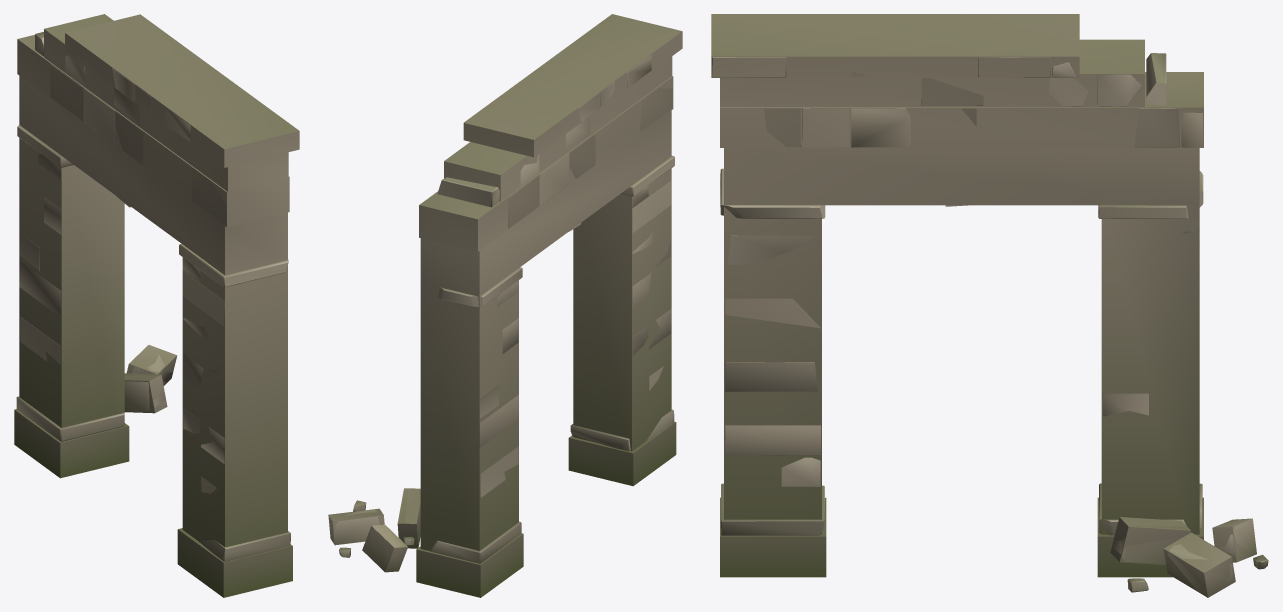
File: agora_gate.glb
The picture shows the model from 3 angles, left to right: view 1: azimuth 30°, elevation 25°; view 2: azimuth 150°, elevation 25°; view 3: azimuth 270°, elevation 25°; orthographic projection. The views are drawn at different scales.
Visible parts, largest first — view 1: agora_gate_far, agora_gate; view 2: agora_gate_far, agora_gate; view 3: agora_gate_far, agora_gate.
Part boxes in pixels (x1,y1,x2,y2): agora_gate_far: (17,14,299,547); agora_gate: (14,32,292,597); agora_gate_far: (328,14,682,572); agora_gate: (332,55,676,597); agora_gate_far: (711,14,1256,597); agora_gate: (712,53,1268,596).
Size of the model in its own units: 16.07 by 41.2 by 39.82.
